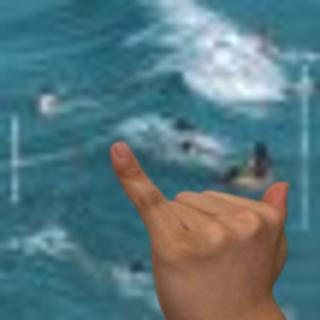HAVE: (101, 140, 320, 315)
